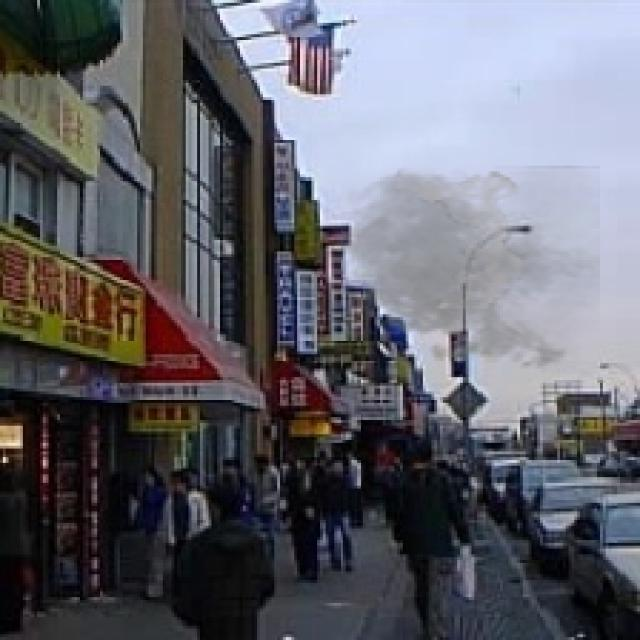smoke: (323, 166, 600, 374)
